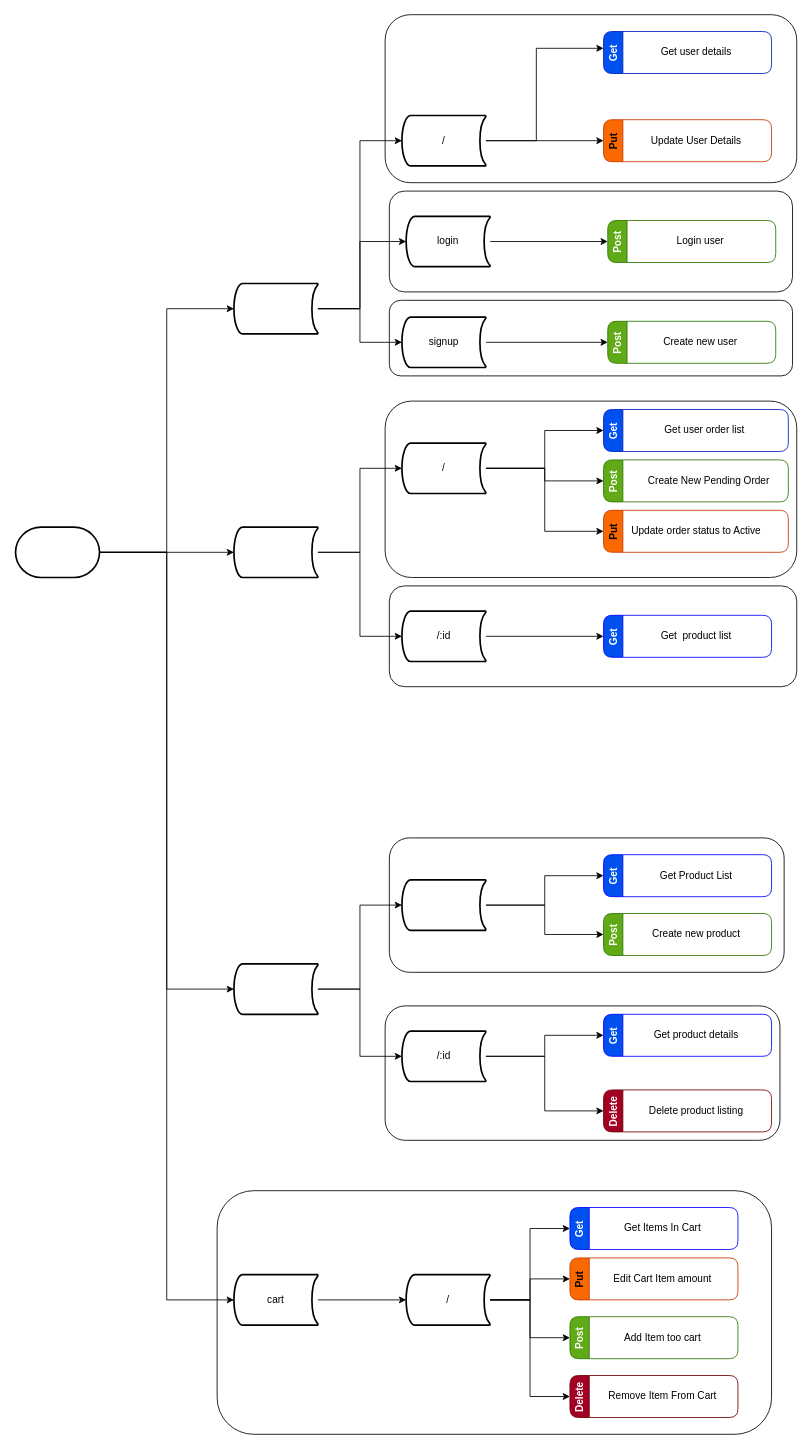
This 811x1449 diagram has some shape labels left out. Here are the shapes that lost their labels. From the top down, the centre of each, then its label:
(x=275, y=308): User
(x=57, y=552): Main Route
(x=275, y=552): Order
(x=443, y=905): / /?category=
(x=275, y=989): products
